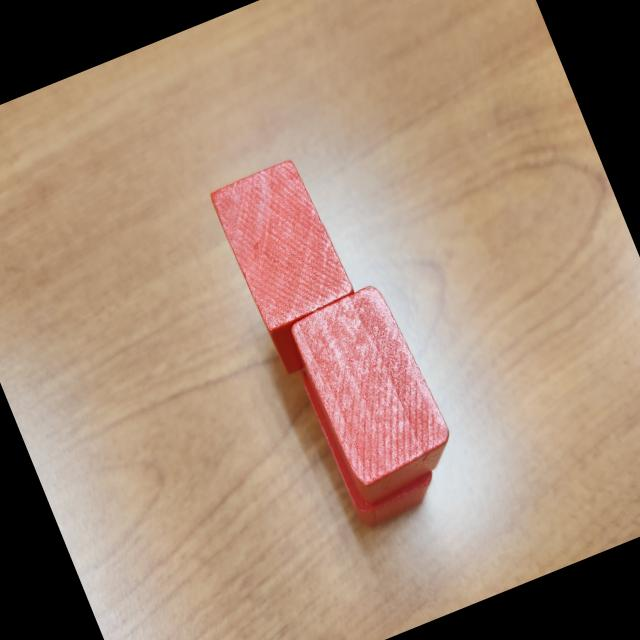red: (284, 276, 464, 508), (206, 153, 366, 358), (297, 338, 442, 529), (232, 220, 374, 380)
